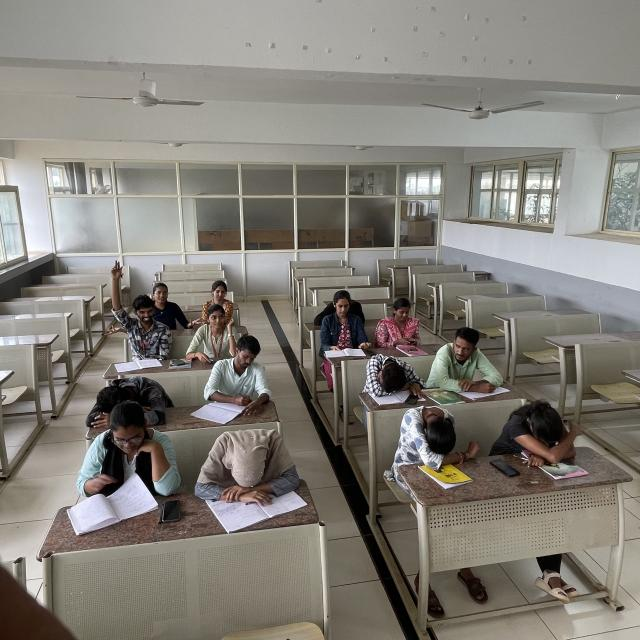Hand Rising: (107, 256, 173, 358)
Reading: (74, 403, 162, 526), (320, 288, 375, 358)
Sleeping: (197, 423, 303, 501), (496, 395, 588, 463), (83, 372, 171, 426), (397, 406, 471, 464), (358, 352, 422, 397)
Using Phone: (376, 296, 429, 348)
Writing: (200, 334, 272, 416)
